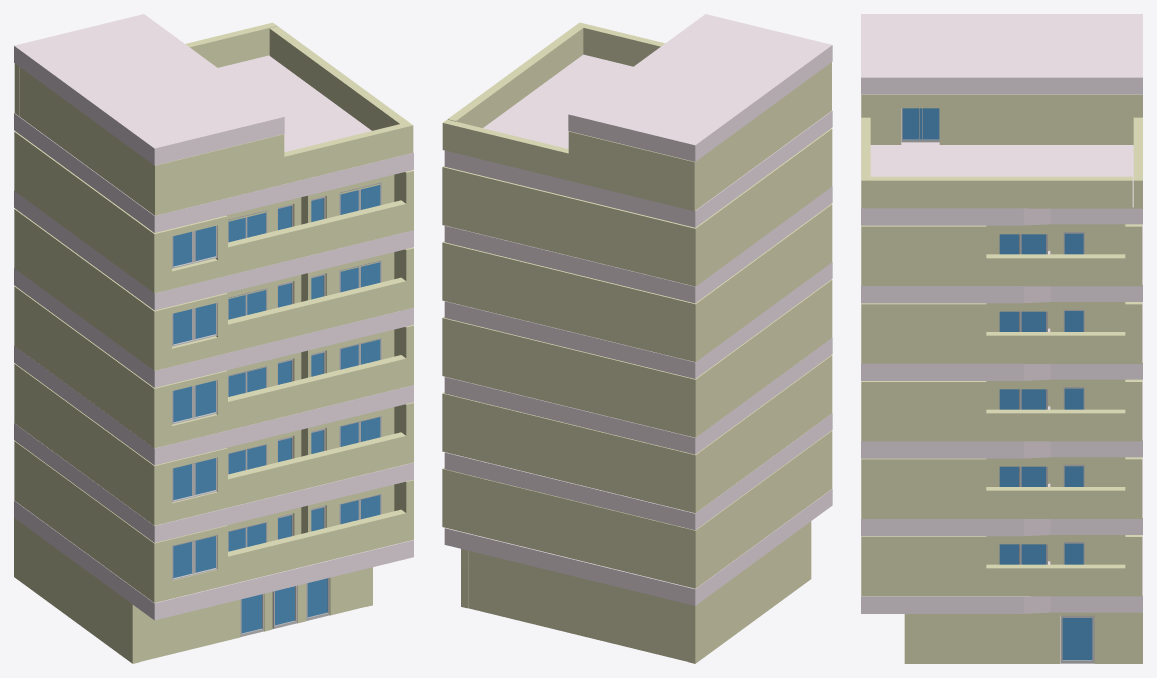
File: condominio.obj
The picture shows the model from 3 angles, left to right: view 1: azimuth 30°, elevation 25°; view 2: azimuth 150°, elevation 25°; view 3: azimuth 270°, elevation 25°; orthographic projection. The views are drawn at different scales.
Parts seen in each view (by area): view 1: Plane.037_Plane.054; view 2: Plane.037_Plane.054; view 3: Plane.037_Plane.054.
Part boxes in pixels (x1=…): Plane.037_Plane.054: x1=14, y1=14, x2=413, y2=663; Plane.037_Plane.054: x1=442, y1=14, x2=832, y2=663; Plane.037_Plane.054: x1=861, y1=14, x2=1142, y2=663.
Size of the model in its own units: 21.81 by 42.78 by 20.48.
Materials: 4 (4 with a texture image).
